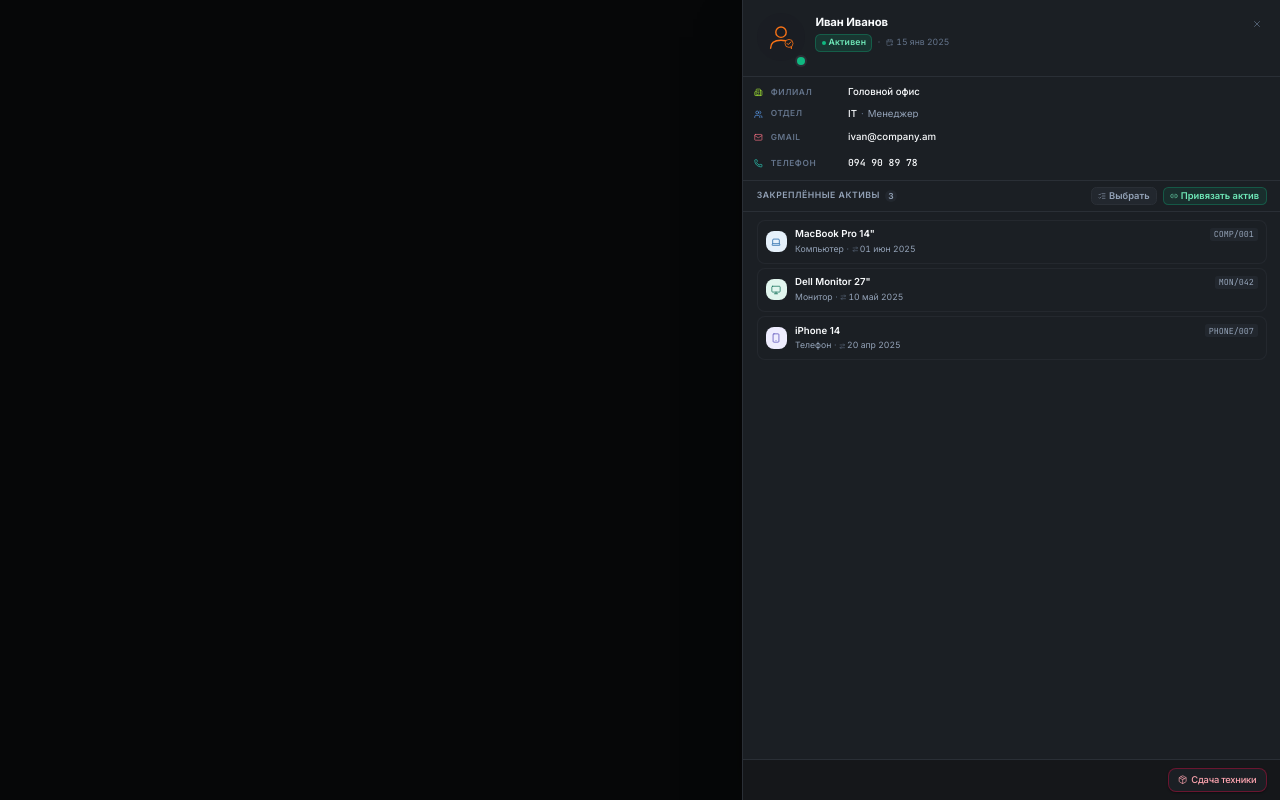
Test: EmployeeDetailDrawer — multi-select transfer flow › 4. with ≥1 selected, transfer bar shows DestPicker chip (Склад) and Передать button
Click the button "Выбрать": (1124, 196) [1091,187,1157,205]
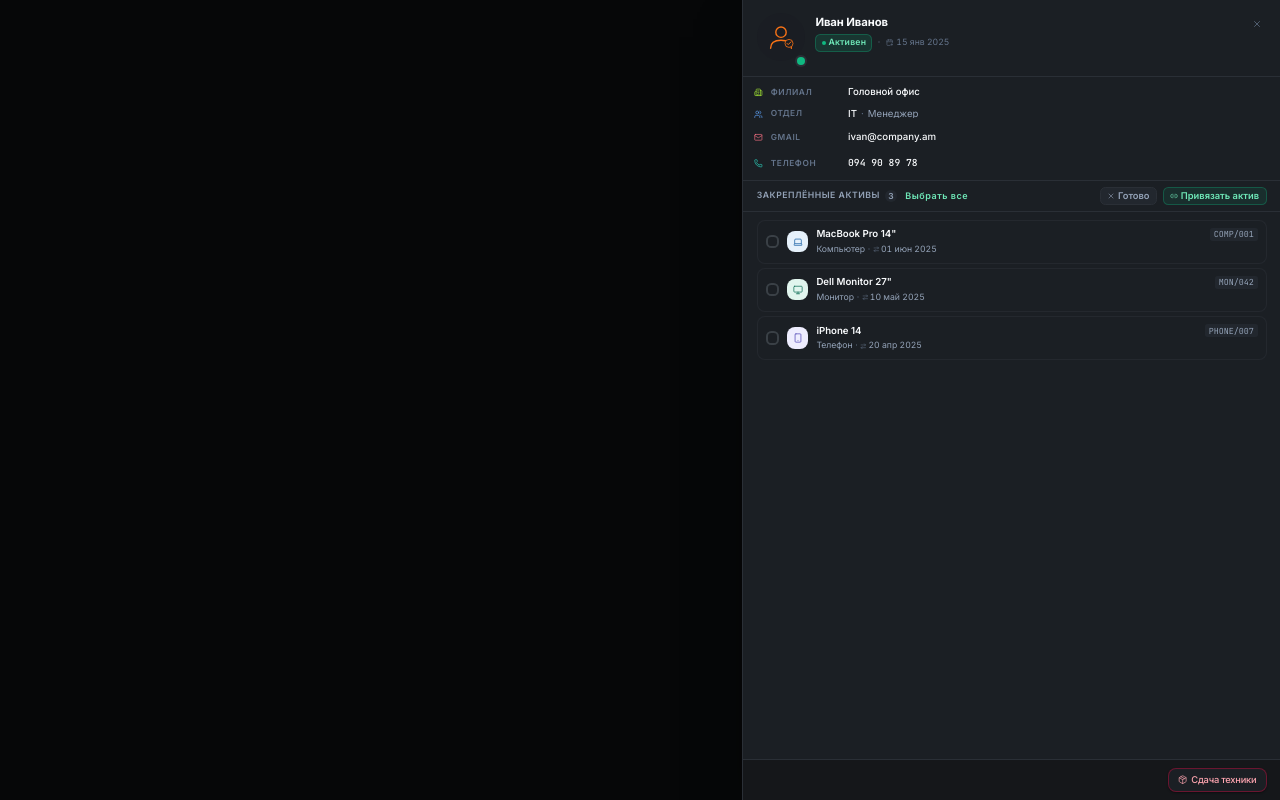
# Select first asset by clicking first aria-pressed element
Click the button "MacBook Pro 14\" COMP/001 Компьютер · 01 июн 2025": (856, 234) [757,220,1267,264]
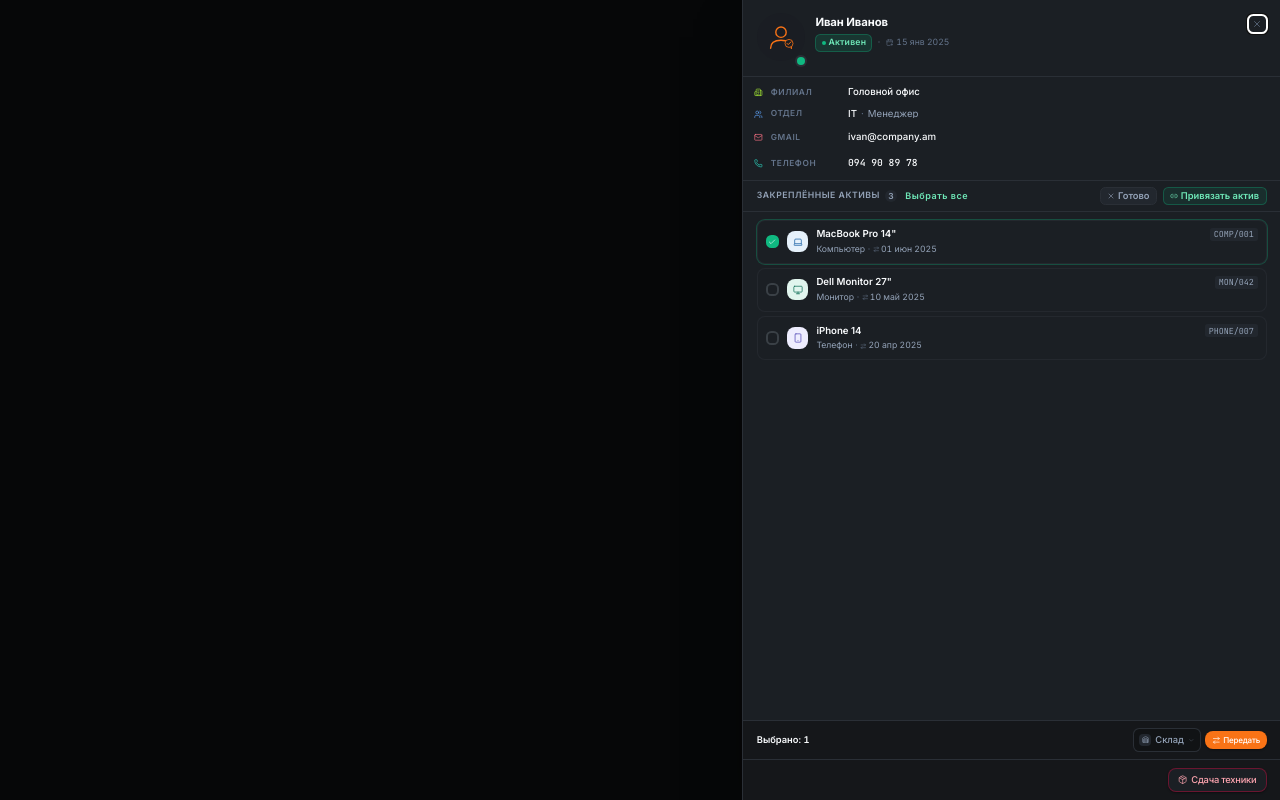
Check: the text "Склад" is shown, box [1155,733,1184,747]
Check: the button "Передать" is shown, box [1205,731,1267,749]
